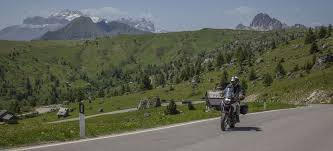moto: (220, 92, 246, 134)
person: (226, 76, 243, 93)
